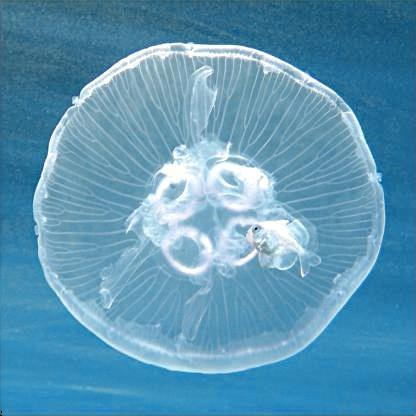Saltpeter: (245, 225, 320, 274)
Speckle: (32, 43, 387, 373)
